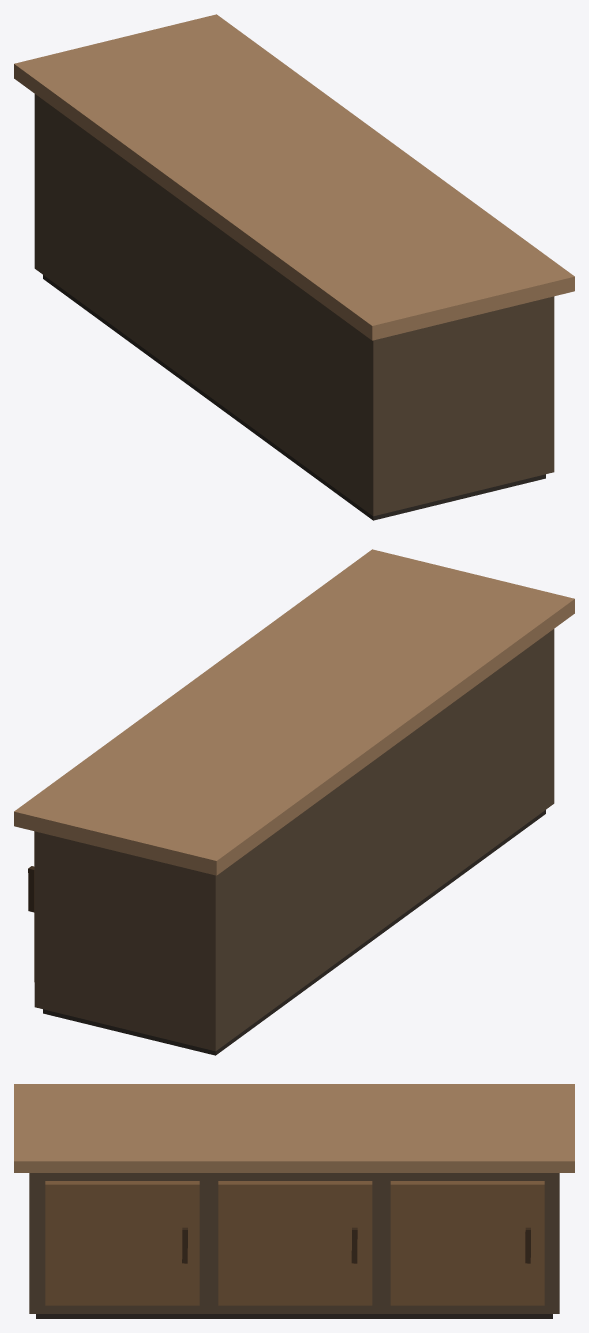
The model's file is meja laci kamar.fbx.
The picture shows the model from 3 angles, top to bottom: view 1: azimuth 30°, elevation 25°; view 2: azimuth 150°, elevation 25°; view 3: azimuth 270°, elevation 25°; orthographic projection. The views are drawn at different scales.
Parts seen in each view (by area): view 1: Cube, Cube.001, Cube.004; view 2: Cube, Cube.001, Cube.004; view 3: Cube.001, Cube.002, Cube.006, Cube.005, Cube, Cube.004.
Part boxes in pixels (bbox=[...]): Cube: bbox=[34, 94, 554, 516]; Cube.001: bbox=[14, 14, 574, 340]; Cube.004: bbox=[43, 275, 545, 520]; Cube: bbox=[34, 629, 554, 1051]; Cube.001: bbox=[14, 549, 574, 875]; Cube.004: bbox=[43, 810, 545, 1055]; Cube.001: bbox=[14, 1084, 574, 1172]; Cube.002: bbox=[45, 1181, 199, 1305]; Cube.006: bbox=[390, 1181, 544, 1305]; Cube.005: bbox=[218, 1181, 372, 1305]; Cube: bbox=[29, 1173, 559, 1313]; Cube.004: bbox=[36, 1314, 552, 1318].
Bounding box in the file's own units: 293 × 270 × 841.
9 materials, 9 textured.
